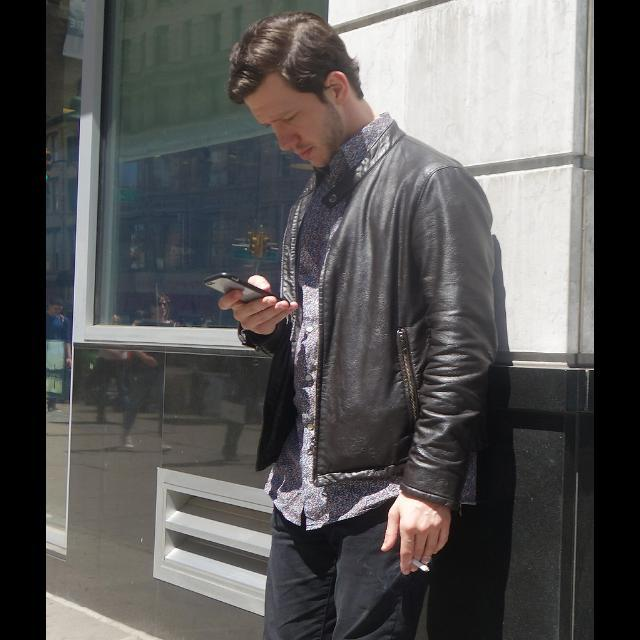rokok: (412, 555, 430, 575)
